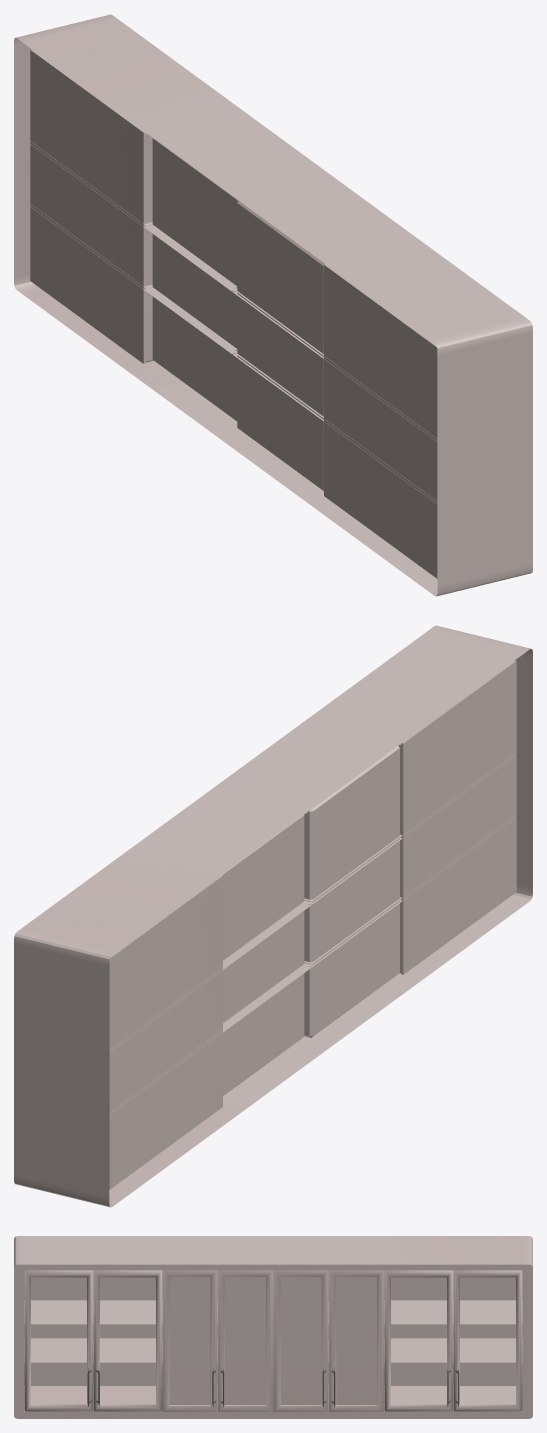
File: _FBX_kitchenCupboard.FBX
3 renders of one model, top to bottom at view 1: azimuth 30°, elevation 25°; view 2: azimuth 150°, elevation 25°; view 3: azimuth 270°, elevation 25°, orthographic. The views are drawn at different scales.
Parts seen in each view (by area): view 1: RC_Furn_CabinetTopShelf; view 2: RC_Furn_CabinetTopShelf; view 3: RC_Furn_CabinetTopShelf, RC_Furn_CabinetTopShelfDoor5, RC_Furn_CabinetTopShelfDoor6, RC_Furn_CabinetTopShelfDoor7, RC_Furn_CabinetTopShelfDoor8, RC_Furn_CabinetTopShelfDoor2, RC_Furn_CabinetTopShelfDoor3, RC_Furn_CabinetTopShelfDoor1, RC_Furn_CabinetTopShelfDoor4.
Part boxes in pixels (left/top/right/bottom): RC_Furn_CabinetTopShelf: left=14, top=14, right=532, bottom=596; RC_Furn_CabinetTopShelf: left=14, top=625, right=532, bottom=1207; RC_Furn_CabinetTopShelf: left=14, top=1236, right=532, bottom=1418; RC_Furn_CabinetTopShelfDoor5: left=162, top=1270, right=217, bottom=1411; RC_Furn_CabinetTopShelfDoor6: left=218, top=1270, right=273, bottom=1411; RC_Furn_CabinetTopShelfDoor7: left=273, top=1270, right=328, bottom=1411; RC_Furn_CabinetTopShelfDoor8: left=329, top=1270, right=384, bottom=1411; RC_Furn_CabinetTopShelfDoor2: left=93, top=1270, right=162, bottom=1411; RC_Furn_CabinetTopShelfDoor3: left=384, top=1270, right=453, bottom=1411; RC_Furn_CabinetTopShelfDoor1: left=24, top=1270, right=93, bottom=1411; RC_Furn_CabinetTopShelfDoor4: left=453, top=1270, right=522, bottom=1411.
Bounding box in the file's own units: 1.12 × 2.6 × 7.91.
Materials: 1 (1 with a texture image).
